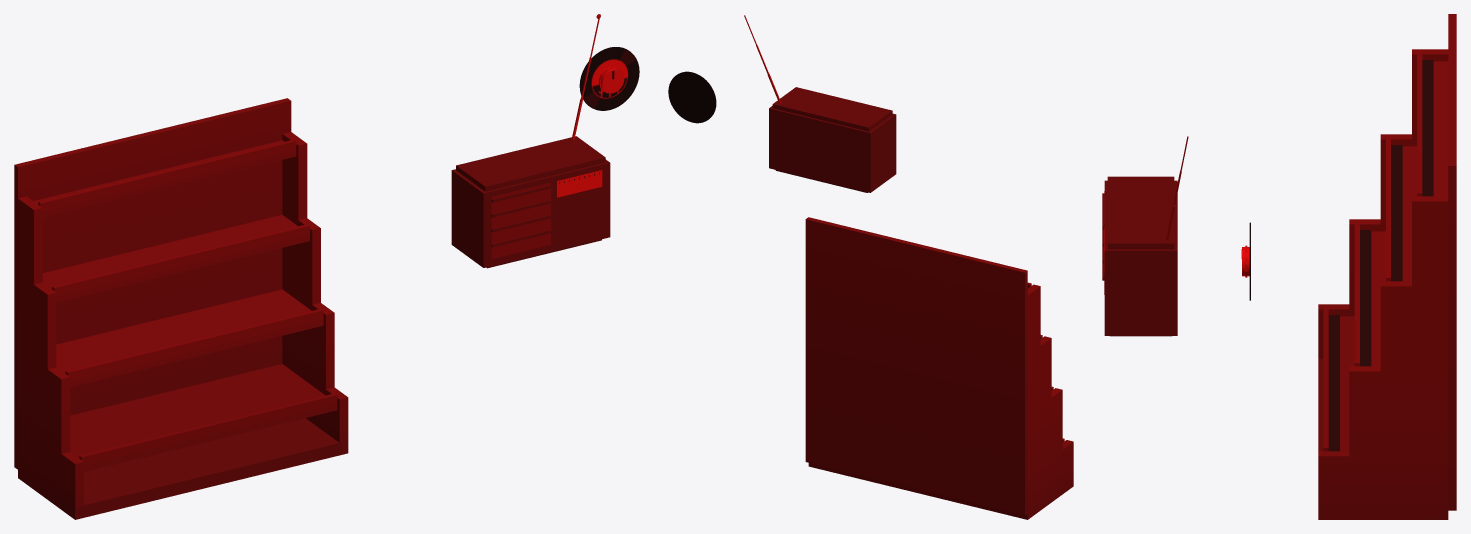
Rendered from music_corner.glb.
The picture shows the model from 3 angles, left to right: view 1: azimuth 30°, elevation 25°; view 2: azimuth 150°, elevation 25°; view 3: azimuth 270°, elevation 25°; orthographic projection. The views are drawn at different scales.
Visible parts, largest first — view 1: Stand, Radio, Disc00; view 2: Stand, Radio, Disc00; view 3: Stand, Radio.
Boxes of the visible parts, left/top/right/bottom form: Stand: left=14, top=98, right=348, bottom=519; Radio: left=451, top=14, right=610, bottom=268; Disc00: left=579, top=47, right=639, bottom=110; Stand: left=805, top=217, right=1073, bottom=519; Radio: left=744, top=15, right=896, bottom=192; Disc00: left=668, top=71, right=716, bottom=123; Stand: left=1318, top=14, right=1456, bottom=519; Radio: left=1102, top=136, right=1188, bottom=336.
Bounding box in the file's own units: 135 × 105 × 68.05.
Materials: 11 (1 with a texture image).
